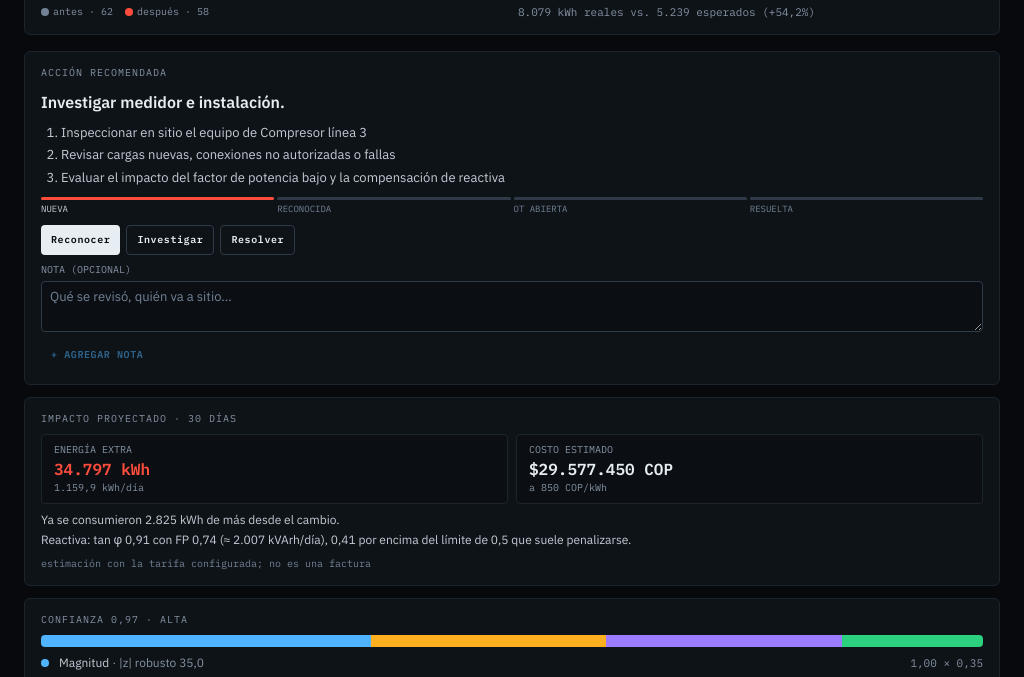
Test: InvestigationPage › records an action with a note and shows it in the history
(page scrolled)
Type "cuadrilla asignada" into the text box with placeholder "Qué se revisó, quién va a sitio…".
click(512, 306); type("cuadrilla asignada")  # box [41,281,983,332]
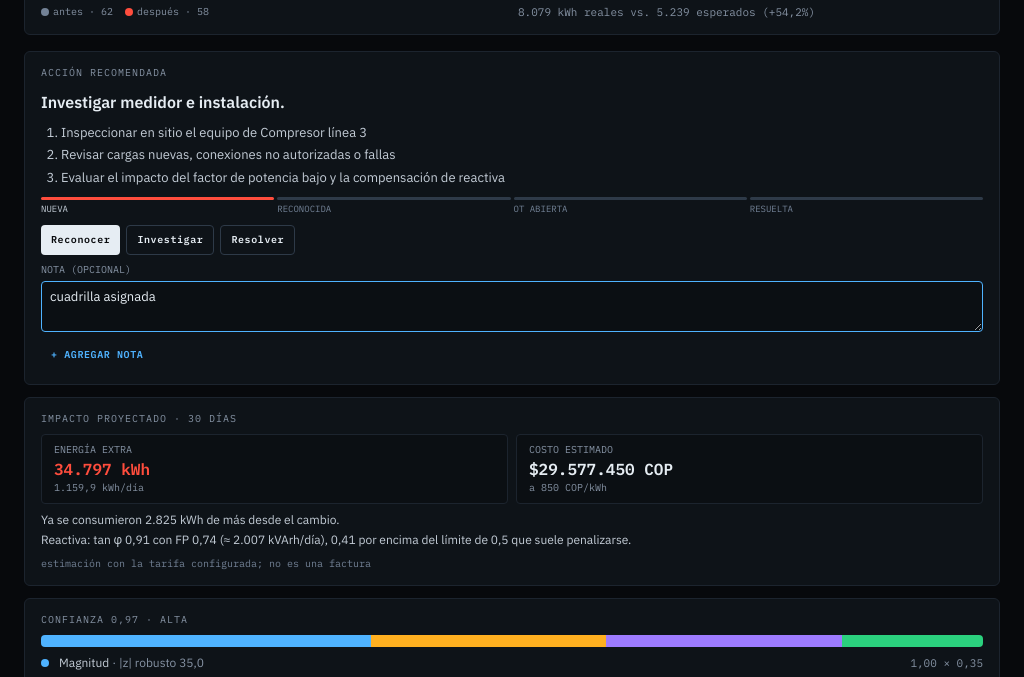
Click the button "Investigar".
click(170, 240)  # box [126,225,214,255]
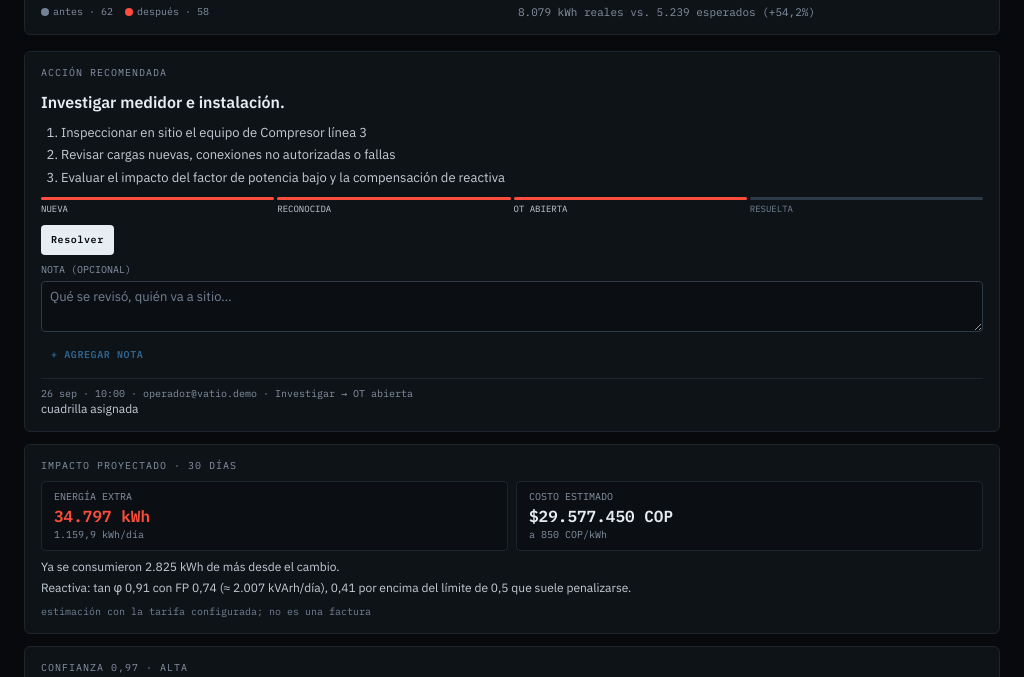
Expected: the text "cuadrilla asignada" is shown, [41,401,138,416]
Expected: the text "operador@vatio.demo · Investigar" is shown, [41,387,413,400]
